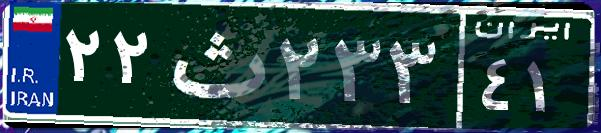1: (525, 38, 570, 115)
2: (273, 28, 330, 110), (57, 26, 110, 107), (110, 28, 158, 105)
3: (385, 28, 445, 110), (330, 28, 385, 110)
4: (475, 38, 525, 113)
ث: (158, 15, 273, 115)
